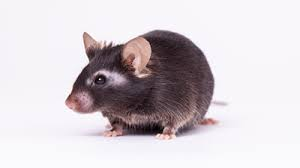mice: (64, 28, 219, 141)
